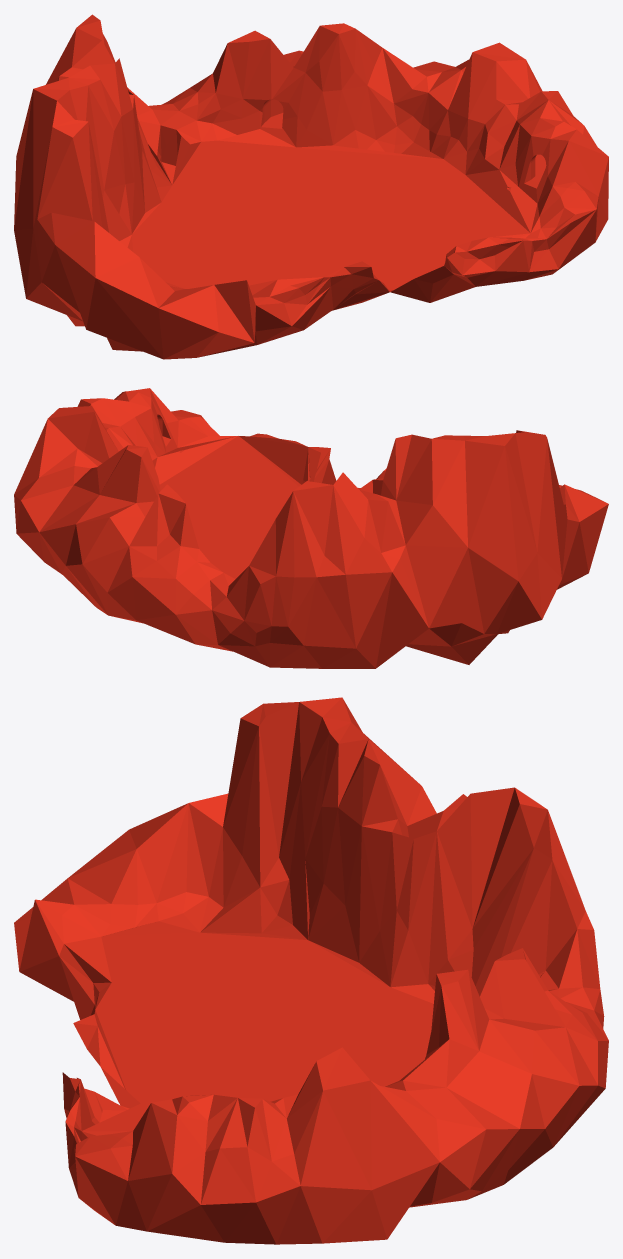
Rendered from tunnel.fbx.
3 renders of one model, top to bottom at view 1: azimuth 30°, elevation 25°; view 2: azimuth 150°, elevation 25°; view 3: azimuth 270°, elevation 25°, orthographic. The views are drawn at different scales.
Parts seen in each view (by area): view 1: mountain_river.001; view 2: mountain_river.001; view 3: mountain_river.001.
Part boxes in pixels (x1=…): mountain_river.001: x1=14, y1=14, x2=608, y2=359; mountain_river.001: x1=14, y1=388, x2=608, y2=668; mountain_river.001: x1=14, y1=697, x2=608, y2=1244.
Bounding box in the file's own units: 2301 × 984 × 1757.
